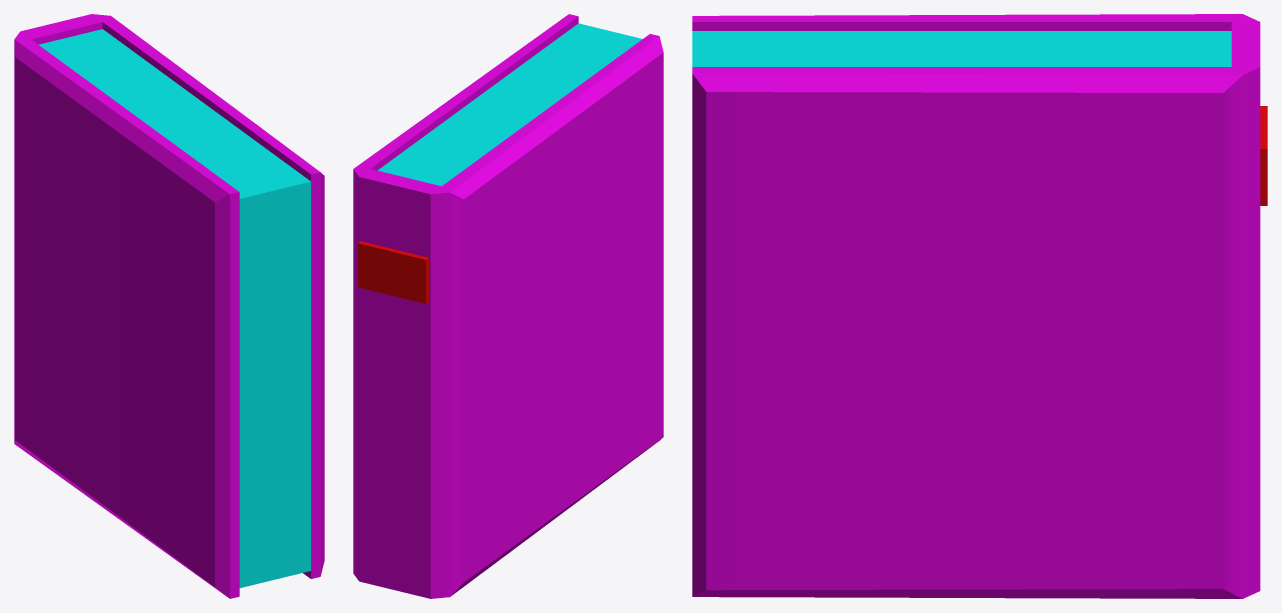
The model's file is Book_B.fbx.
3 views of the same model, side by side, from view 1: azimuth 30°, elevation 25°; view 2: azimuth 150°, elevation 25°; view 3: azimuth 270°, elevation 25° (orthographic). The views are drawn at different scales.
Parts seen in each view (by area): view 1: Book_B; view 2: Book_B; view 3: Book_B.
Part boxes in pixels (x1=…): Book_B: x1=14, y1=14, x2=324, y2=598; Book_B: x1=353, y1=14, x2=663, y2=598; Book_B: x1=692, y1=14, x2=1267, y2=598.
Bounding box in the file's own units: 9.76 × 34.46 × 34.32.
